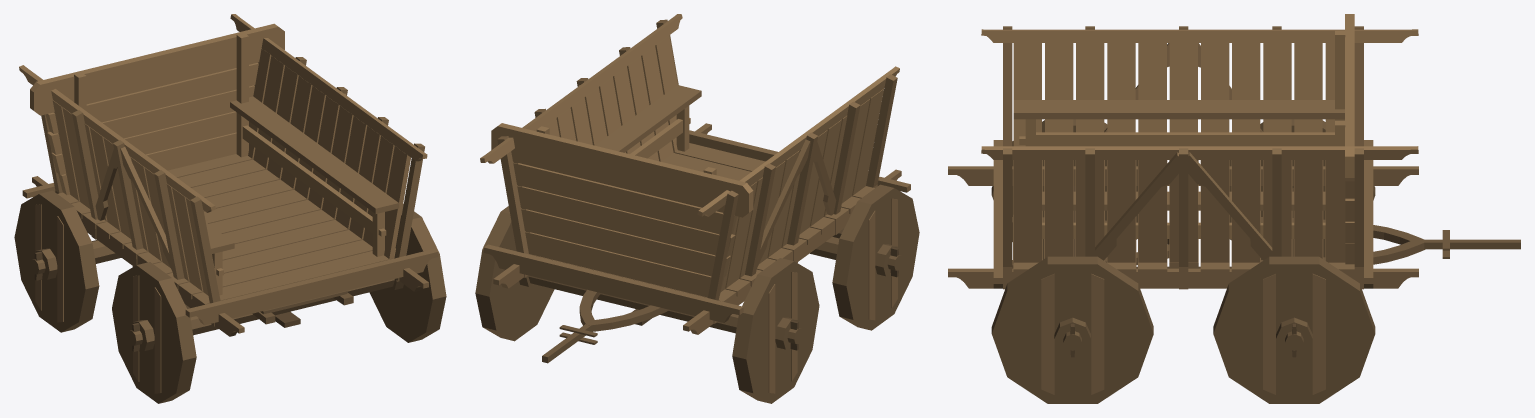
The model's file is wagon.glb.
3 views of the same model, side by side, from view 1: azimuth 30°, elevation 25°; view 2: azimuth 150°, elevation 25°; view 3: azimuth 270°, elevation 25° (orthographic). The views are drawn at different scales.
Parts seen in each view (by area): view 1: Object_2, Object_3, Object_4, Object_5; view 2: Object_2, Object_3, Object_4; view 3: Object_2, Object_3, Object_4.
Part boxes in pixels (left/top/right/bottom): Object_2: left=19, top=14, right=427, bottom=298; Object_3: left=22, top=57, right=438, bottom=393; Object_4: left=14, top=190, right=446, bottom=403; Object_5: left=34, top=251, right=300, bottom=351; Object_2: left=480, top=14, right=899, bottom=297; Object_3: left=484, top=19, right=910, bottom=393; Object_4: left=475, top=184, right=919, bottom=403; Object_2: left=981, top=14, right=1418, bottom=264; Object_3: left=948, top=26, right=1418, bottom=394; Object_4: left=991, top=119, right=1520, bottom=403.
Size of the model in its own units: 2.48 by 1.79 by 3.68.
